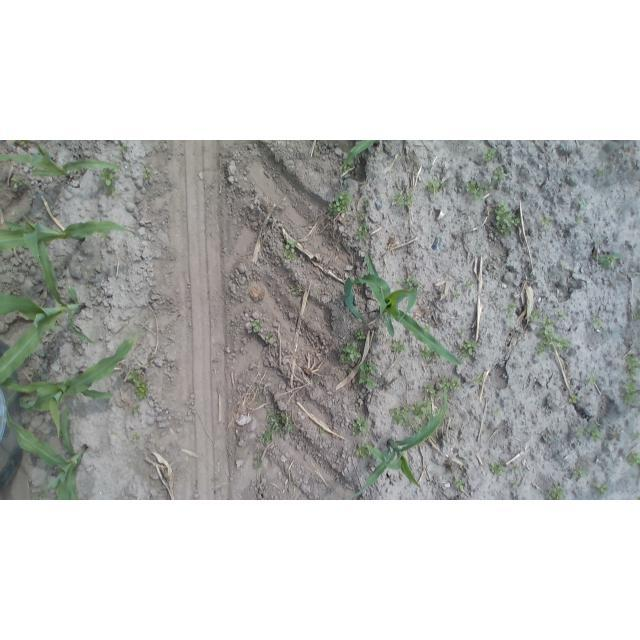Maize: (2, 324, 146, 455), (1, 225, 95, 385), (344, 249, 463, 368), (339, 388, 454, 495), (5, 405, 88, 498), (2, 212, 140, 255), (0, 140, 120, 182), (340, 140, 381, 178)
Weeds: (534, 318, 570, 355), (261, 406, 295, 445), (390, 402, 430, 431), (493, 202, 519, 236), (127, 368, 150, 399), (327, 190, 353, 216), (595, 249, 622, 271), (465, 180, 492, 201), (338, 342, 362, 365), (358, 362, 376, 391), (392, 188, 414, 210), (101, 170, 118, 195), (623, 379, 638, 405), (458, 339, 478, 358), (283, 238, 298, 262), (350, 416, 368, 436), (626, 353, 639, 380), (438, 376, 462, 390), (425, 180, 444, 196), (547, 483, 566, 499), (584, 424, 603, 440), (418, 347, 438, 362), (356, 217, 368, 242), (252, 451, 264, 474), (492, 166, 508, 182), (355, 442, 370, 459), (490, 461, 507, 475), (390, 340, 406, 354), (10, 176, 24, 192), (482, 147, 496, 163), (405, 275, 421, 289), (627, 449, 638, 466), (252, 320, 265, 333), (424, 385, 437, 398), (596, 482, 609, 495), (289, 284, 303, 296), (454, 476, 465, 491), (540, 216, 553, 228), (573, 468, 585, 480), (118, 143, 130, 155), (568, 393, 579, 406), (474, 374, 487, 385), (141, 168, 151, 182), (591, 316, 602, 328), (504, 303, 516, 314), (356, 328, 367, 340), (512, 463, 522, 475), (530, 309, 540, 321), (132, 405, 142, 416), (573, 216, 584, 226), (452, 289, 462, 300), (588, 374, 598, 385), (575, 427, 584, 439), (266, 330, 275, 342), (13, 141, 30, 147), (316, 426, 326, 436), (492, 407, 502, 417), (556, 311, 567, 320), (544, 432, 553, 443), (596, 169, 605, 180), (458, 327, 467, 337), (363, 197, 372, 207), (132, 433, 141, 442), (466, 279, 475, 288), (512, 479, 520, 489), (35, 493, 48, 499), (578, 201, 585, 212), (424, 323, 432, 332), (560, 261, 567, 271), (633, 310, 639, 320)
